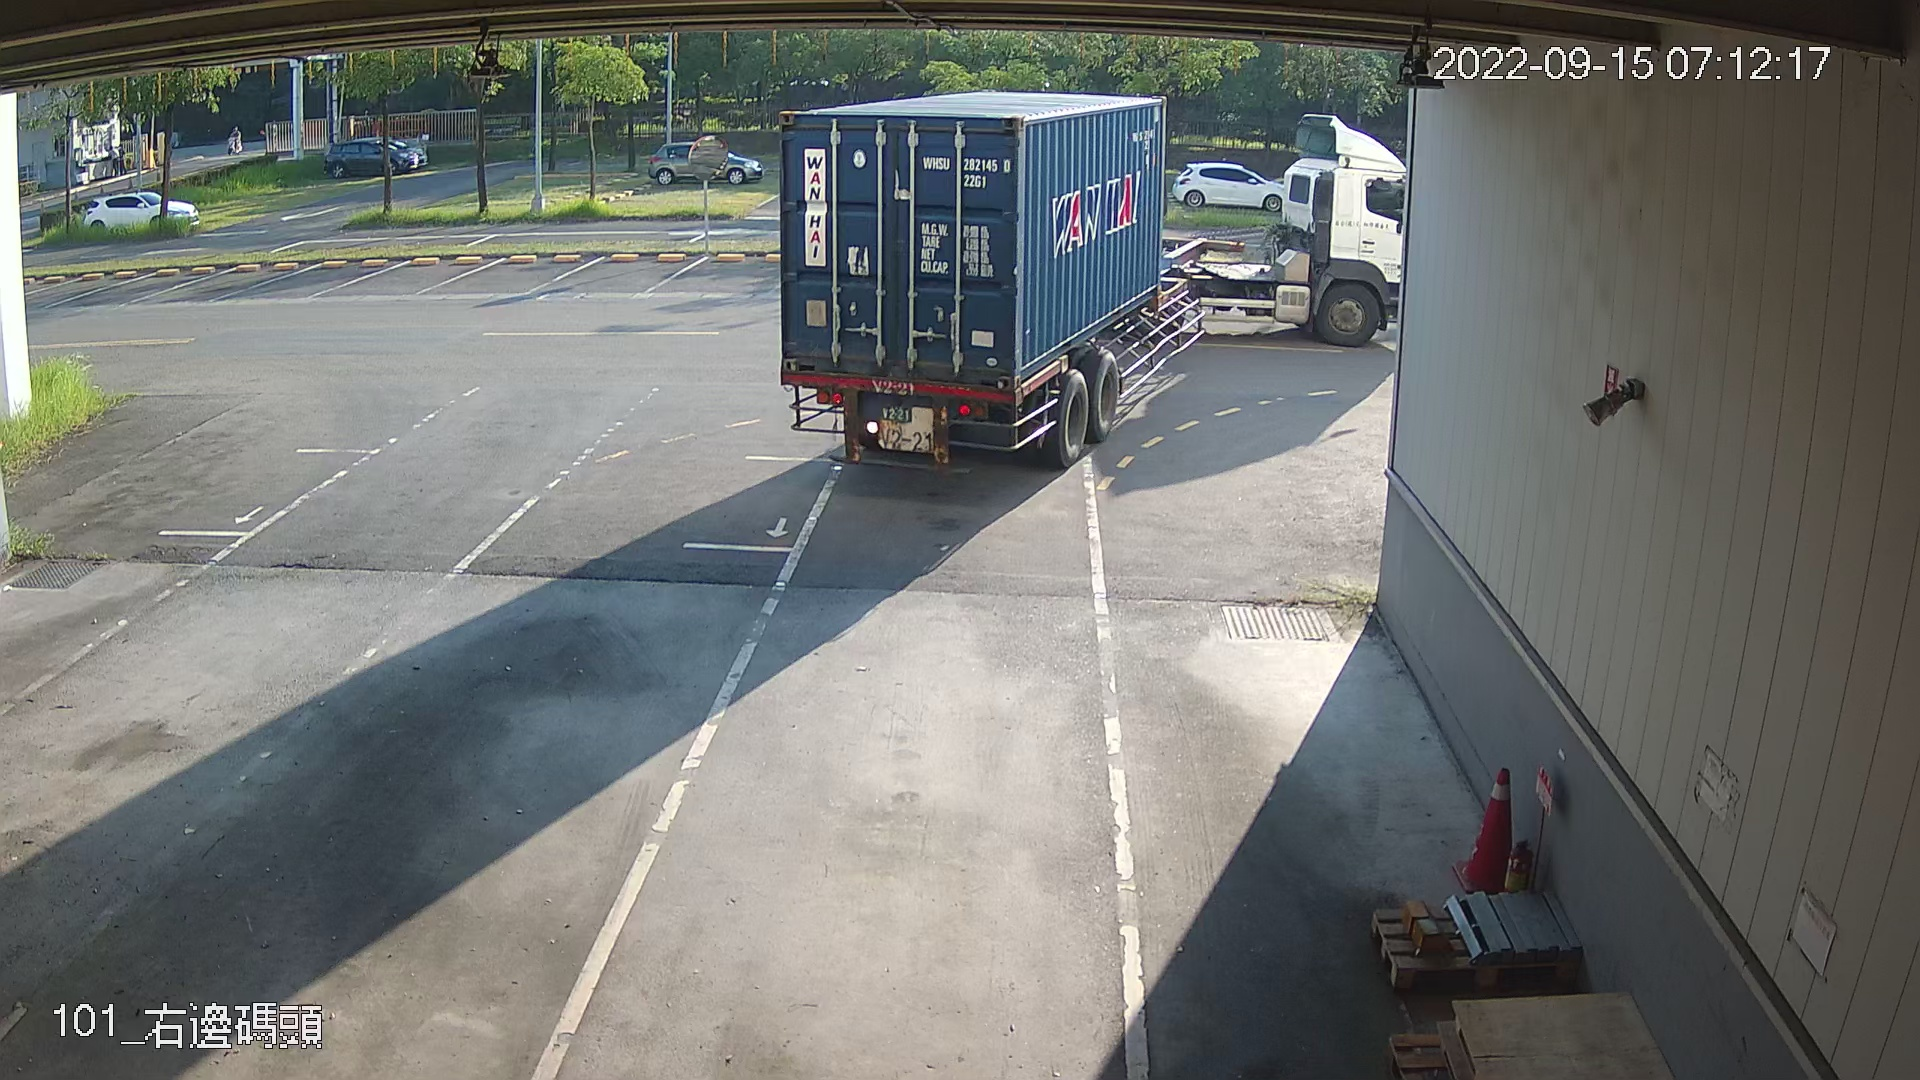container: (919, 148, 1014, 195)
